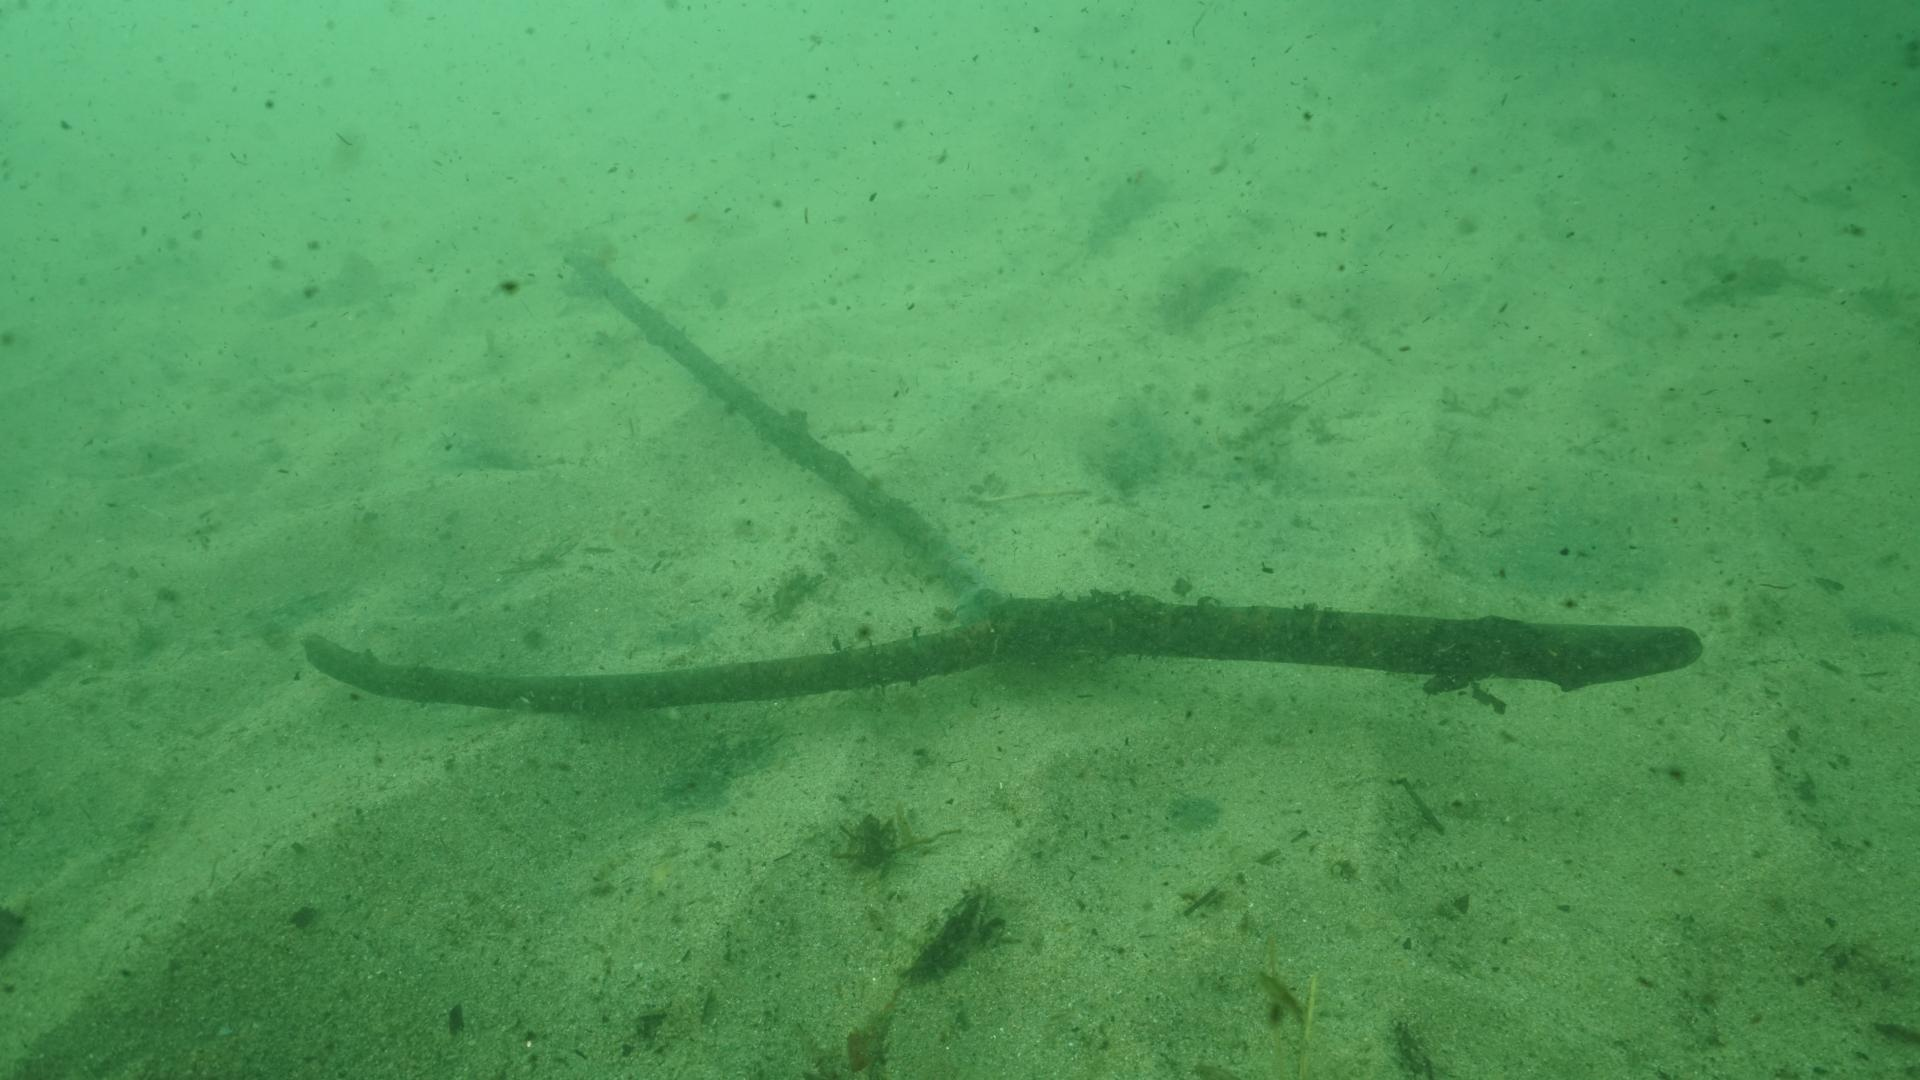wood: (301, 252, 1704, 709)
